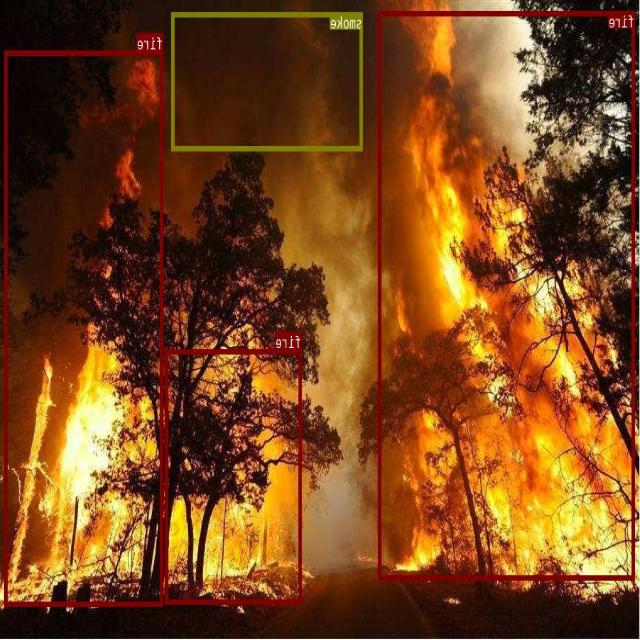fire: (379, 10, 635, 579), (5, 50, 164, 606), (166, 348, 302, 603)
smoke: (172, 11, 364, 150)
